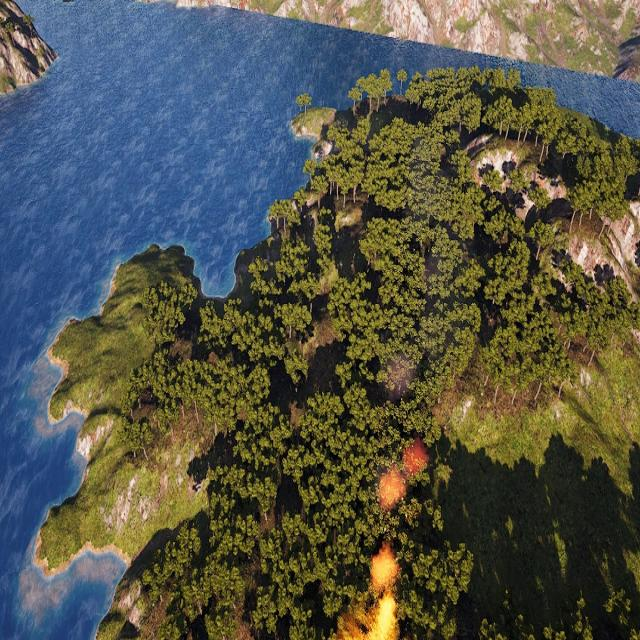fire: (368, 595, 398, 640), (372, 548, 398, 586), (241, 0, 250, 9)
smoke: (376, 436, 428, 513), (384, 358, 420, 404)
